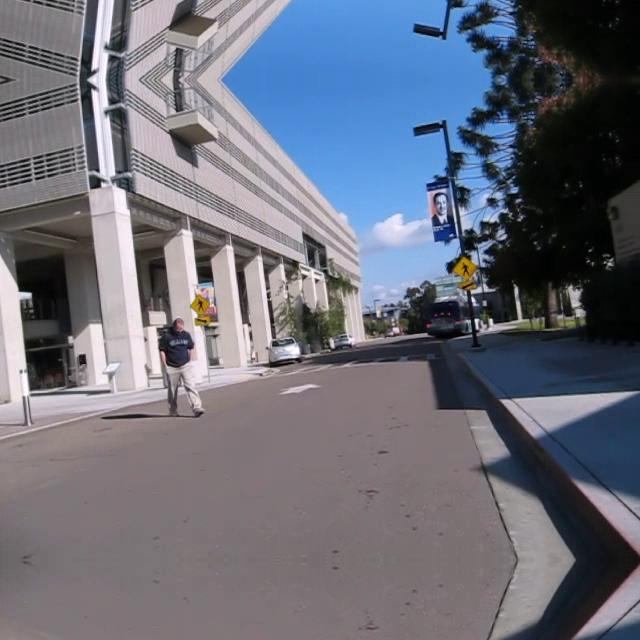pedestrianCrossing: (452, 254, 478, 282), (189, 292, 211, 316)
